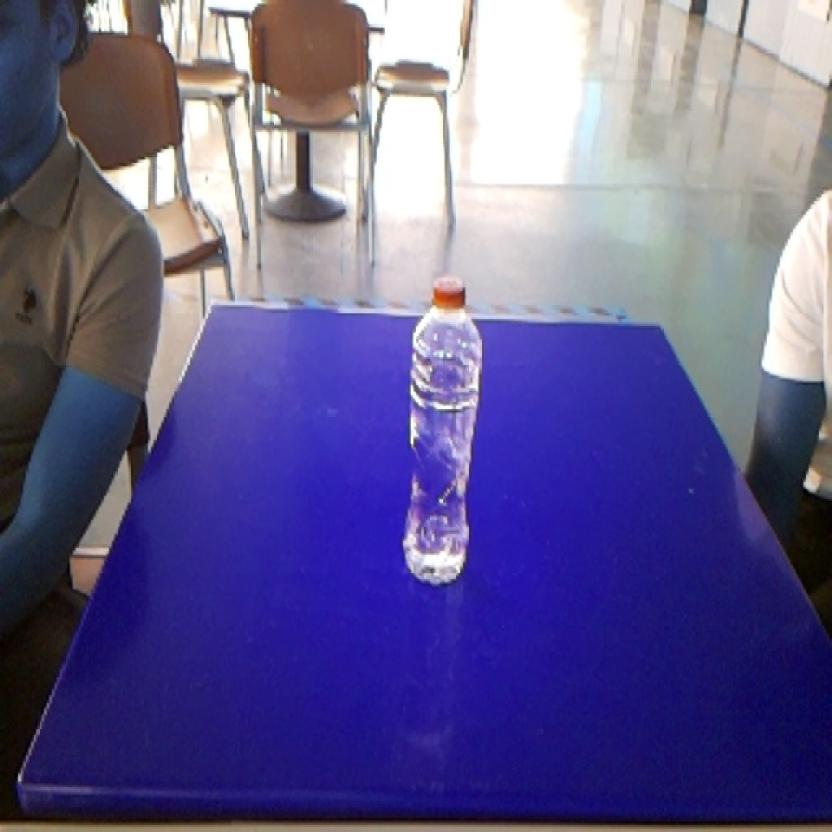no_label: (395, 266, 488, 592)
